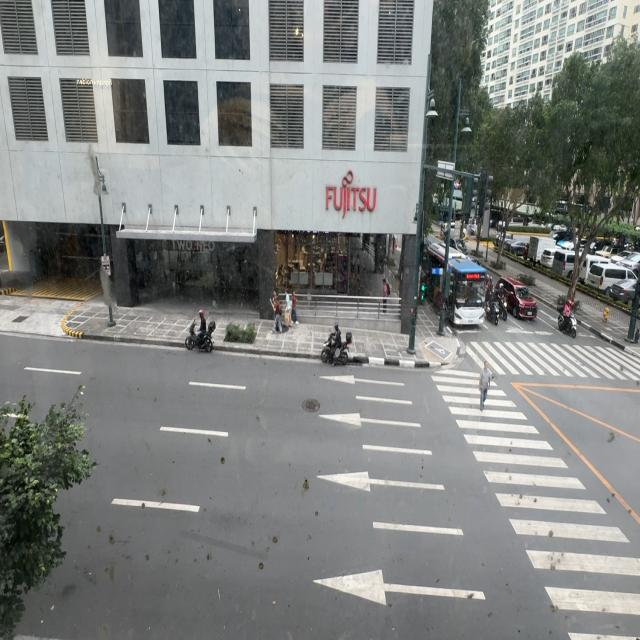crossing: (474, 362, 494, 416)
pedestrain: (270, 293, 284, 334), (284, 290, 292, 328), (382, 278, 390, 315), (290, 291, 298, 325)
